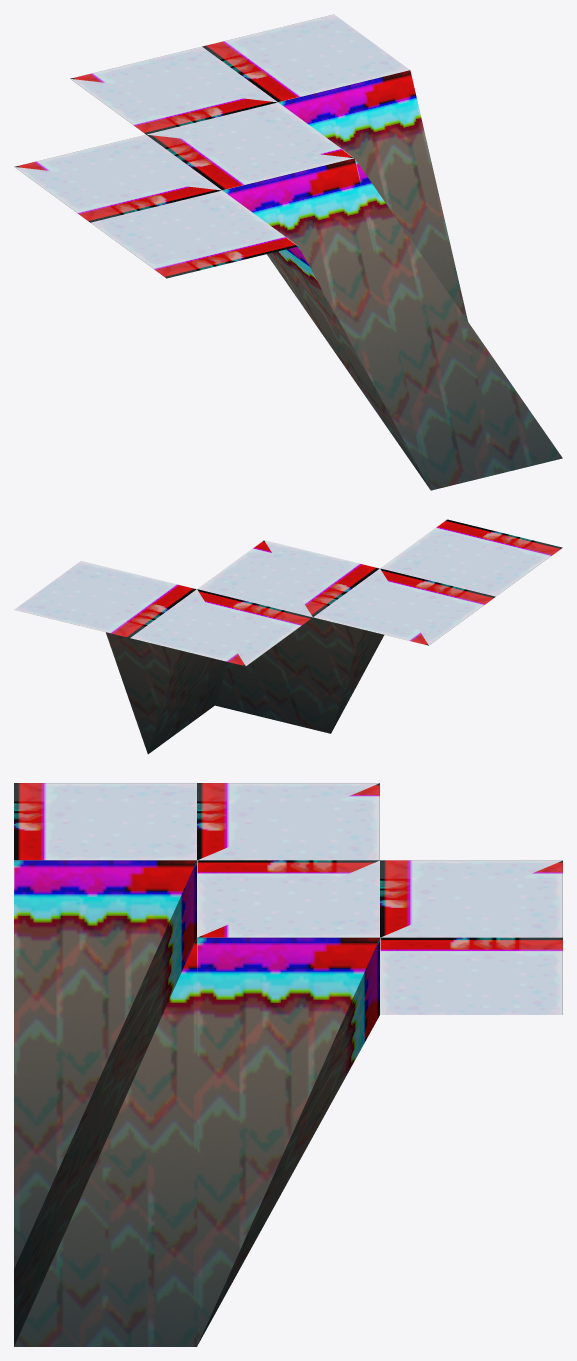
The model's file is arch_winter_wall_cornerInOut.FBX.
3 renders of one model, top to bottom at view 1: azimuth 30°, elevation 25°; view 2: azimuth 150°, elevation 25°; view 3: azimuth 270°, elevation 25°, orthographic. The views are drawn at different scales.
Parts seen in each view (by area): view 1: arch_winter_wall_cornerInOut; view 2: arch_winter_wall_cornerInOut; view 3: arch_winter_wall_cornerInOut.
Boxes of the visible parts, <box> form: arch_winter_wall_cornerInOut: <box>14,14,562,490</box>; arch_winter_wall_cornerInOut: <box>14,519,562,754</box>; arch_winter_wall_cornerInOut: <box>14,783,562,1346</box>.
Size of the model in its own units: 6 by 4 by 6.
Materials: 1 (1 with a texture image).
